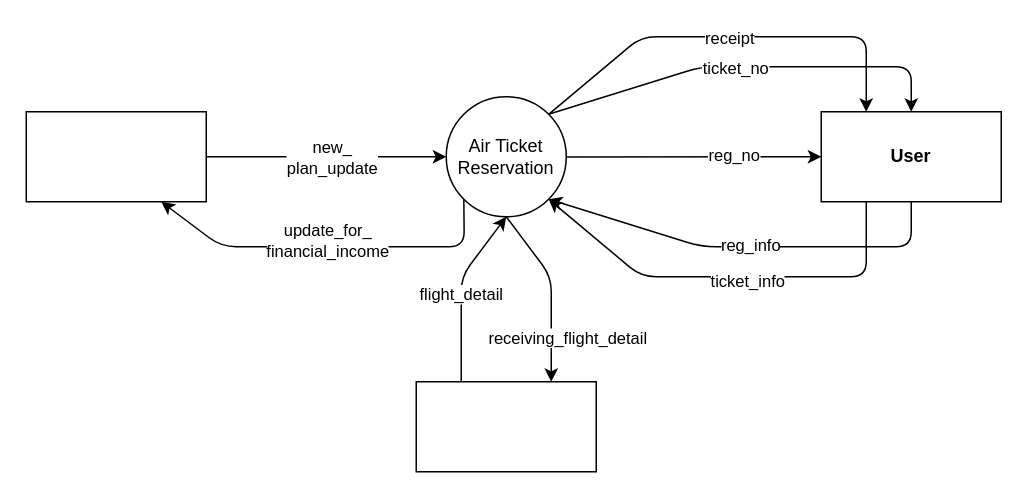
Image size: 1028x498. Some labels were removed from this diagram. Here are the shapes that lost their labels. From the top down, the box of each, then its label:
(25, 110, 206, 202): Airline
(415, 380, 596, 472): Administrator
